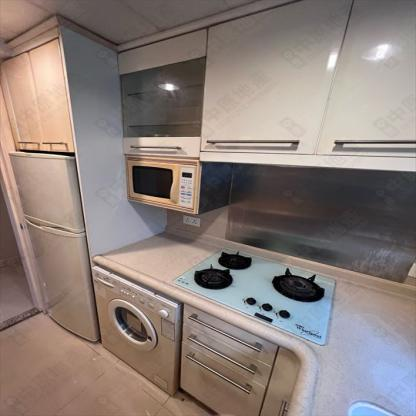Cupboard: (115, 0, 415, 168), (0, 40, 75, 155)
Fridge: (9, 152, 99, 342)
Microwave: (125, 159, 200, 213)
Stove: (166, 250, 337, 345)
Washing Machine: (95, 267, 181, 395)
